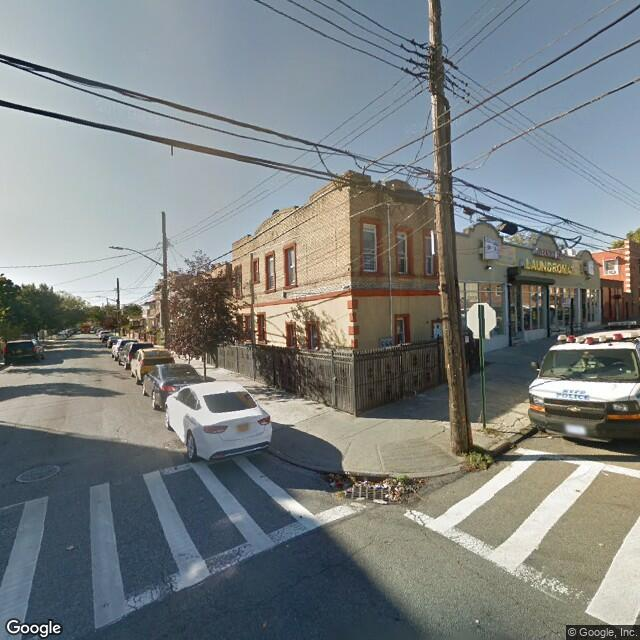litter: (370, 495, 388, 505), (327, 477, 343, 487), (372, 482, 391, 490)
